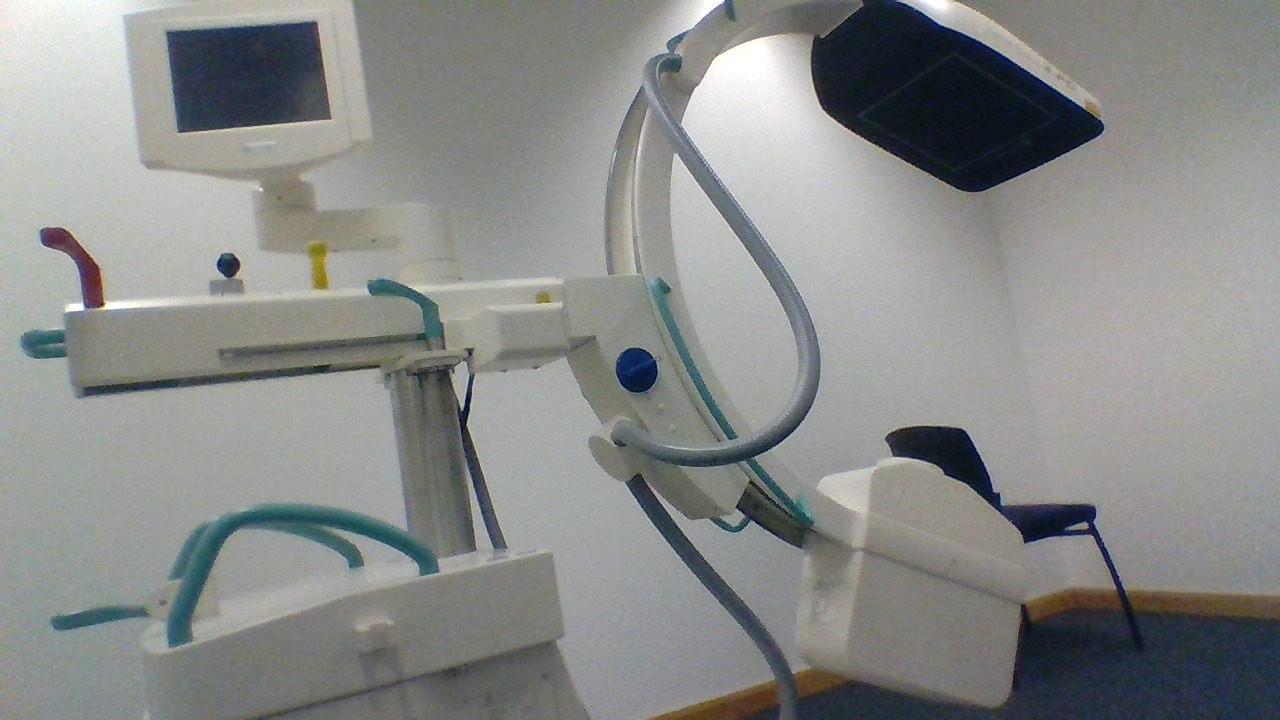carmBACK: (50, 574, 221, 634)
carmDOWN: (808, 457, 1029, 569)
carmLOCK: (613, 345, 659, 395)
carmSCREEN: (121, 3, 373, 174)
carmUP: (810, 2, 1106, 195)
